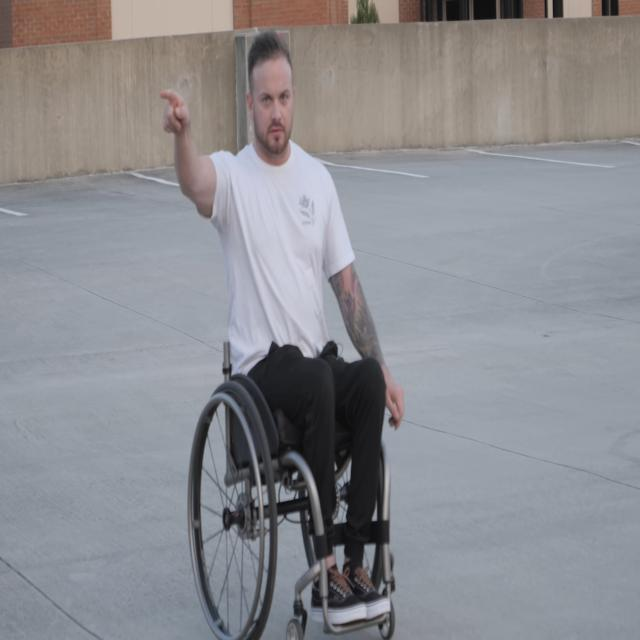wheelchairs: (183, 269, 400, 640)
